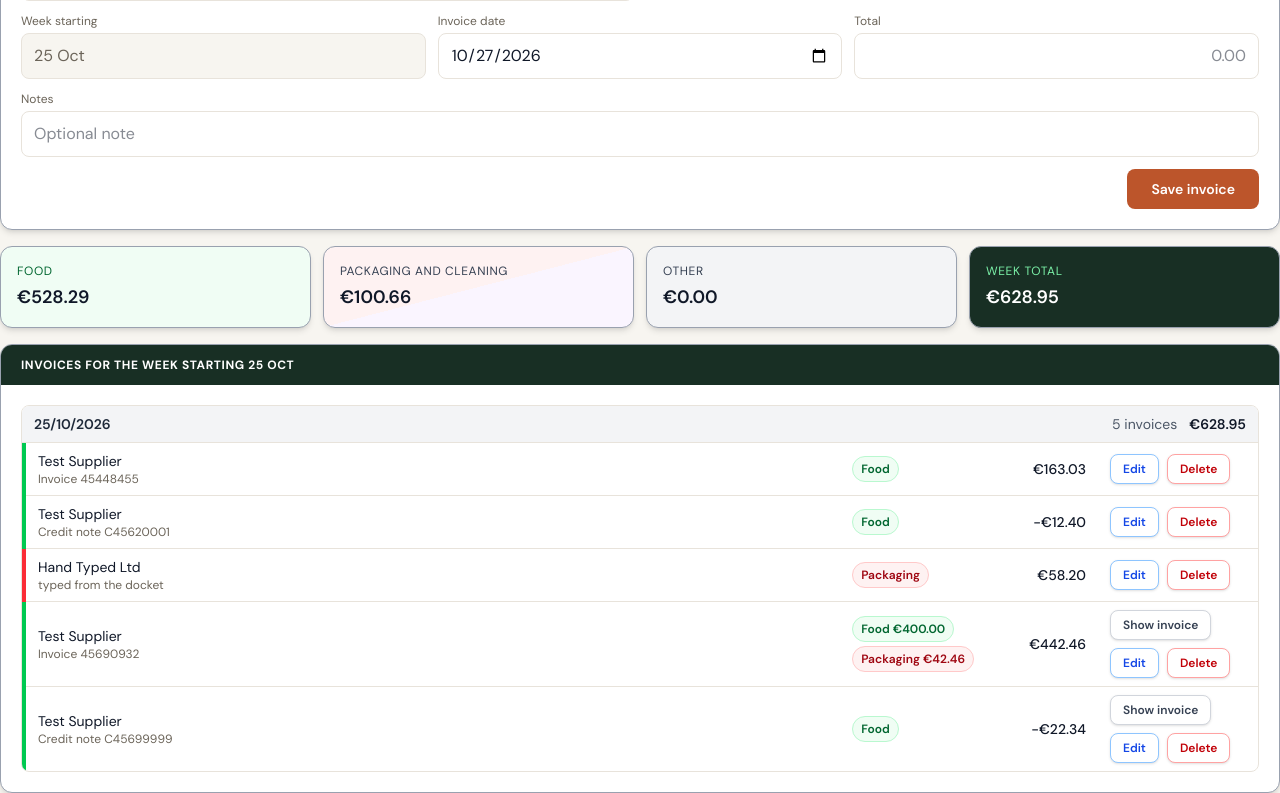
editing a document that was read in › still lets a total typed by hand be corrected
This screenshot has width=1280, height=793.
(page scrolled)
Click the button "Edit" in the row of "Hand Typed Ltd" at (1134, 575), box [1110,560,1159,590]
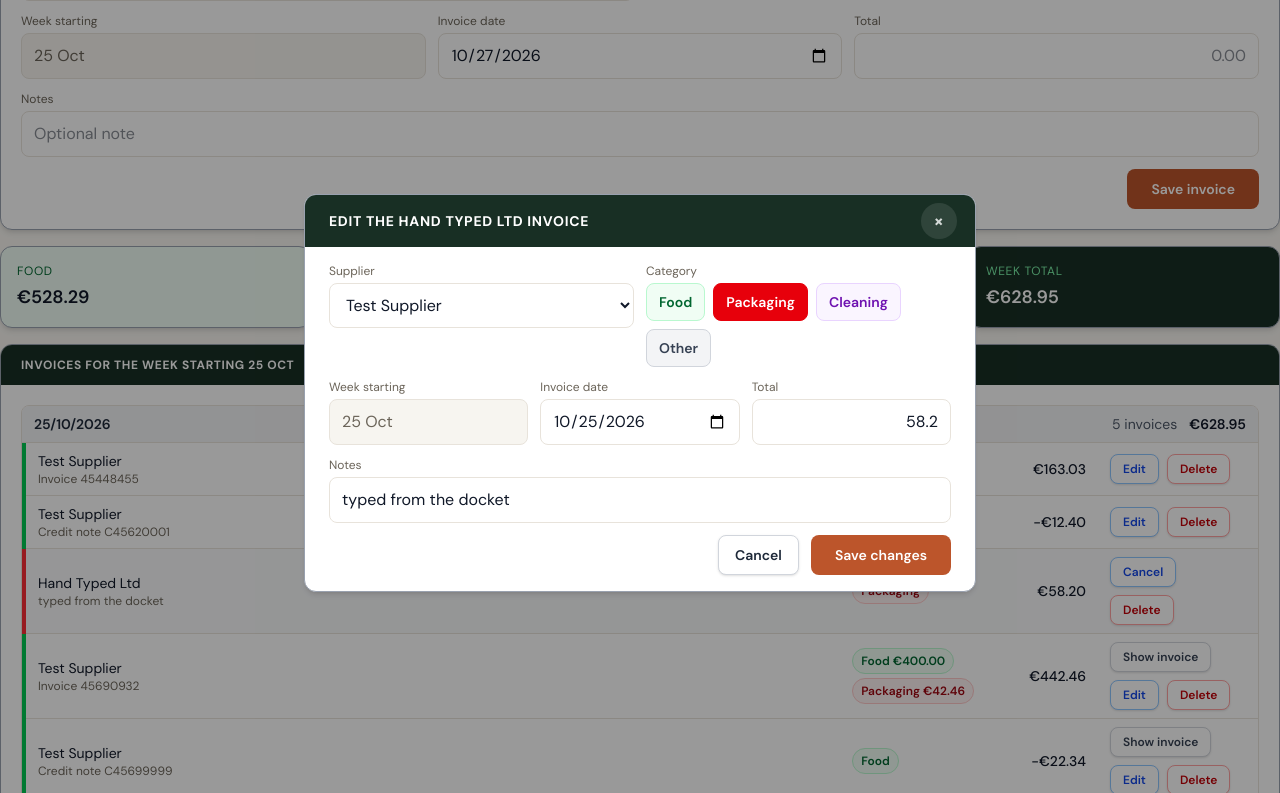
expect the 1st field with placeholder "0.00" holds "58.2": met, box [752,399,951,445]
